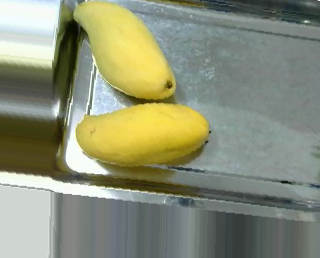Mango: (74, 1, 176, 98), (76, 103, 208, 165)
